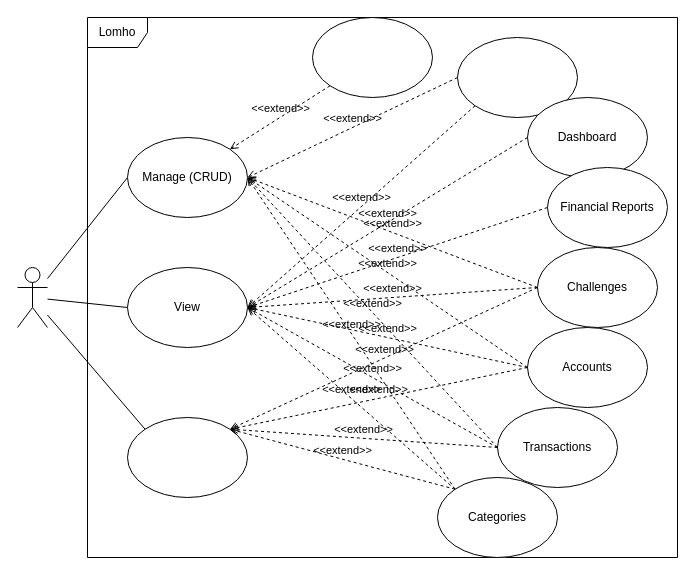
This 695x575 diagram has some shape labels left out. Each missing label, with the box of its shape:
Budgets: (456, 36, 578, 118)
Filter: (126, 416, 248, 498)
Settings: (312, 16, 432, 98)
User: (16, 266, 48, 328)
